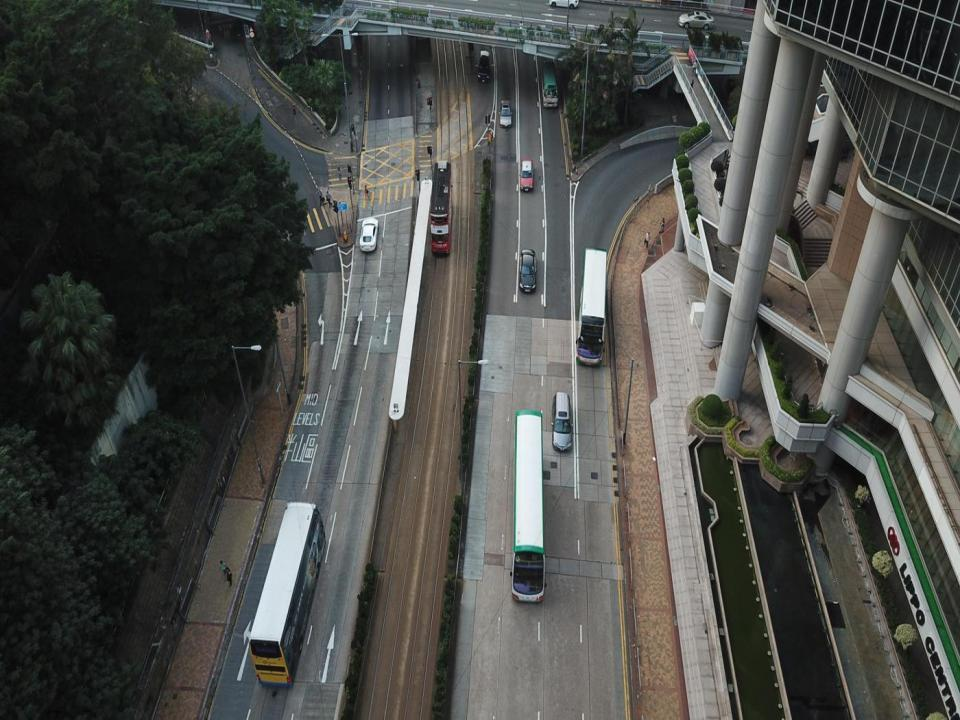bus: (251, 500, 326, 689), (511, 410, 548, 603), (575, 250, 609, 366), (430, 161, 450, 254), (541, 53, 558, 108)
car: (552, 392, 574, 453), (519, 248, 536, 294), (678, 11, 715, 30), (360, 218, 378, 252), (518, 159, 533, 191), (499, 99, 512, 130), (478, 49, 490, 82), (548, 0, 579, 9)
